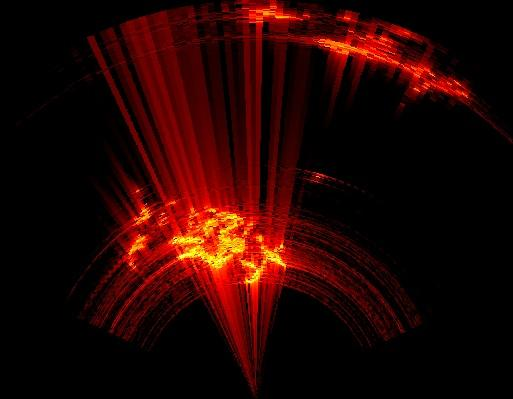shipwreck: (322, 32, 469, 100), (167, 208, 285, 282), (127, 208, 155, 267), (242, 5, 310, 25)
